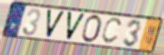3: (123, 19, 144, 48), (22, 8, 41, 36)
C: (100, 17, 124, 46)
O: (80, 14, 103, 44)
V: (46, 8, 67, 40), (66, 10, 87, 42)
